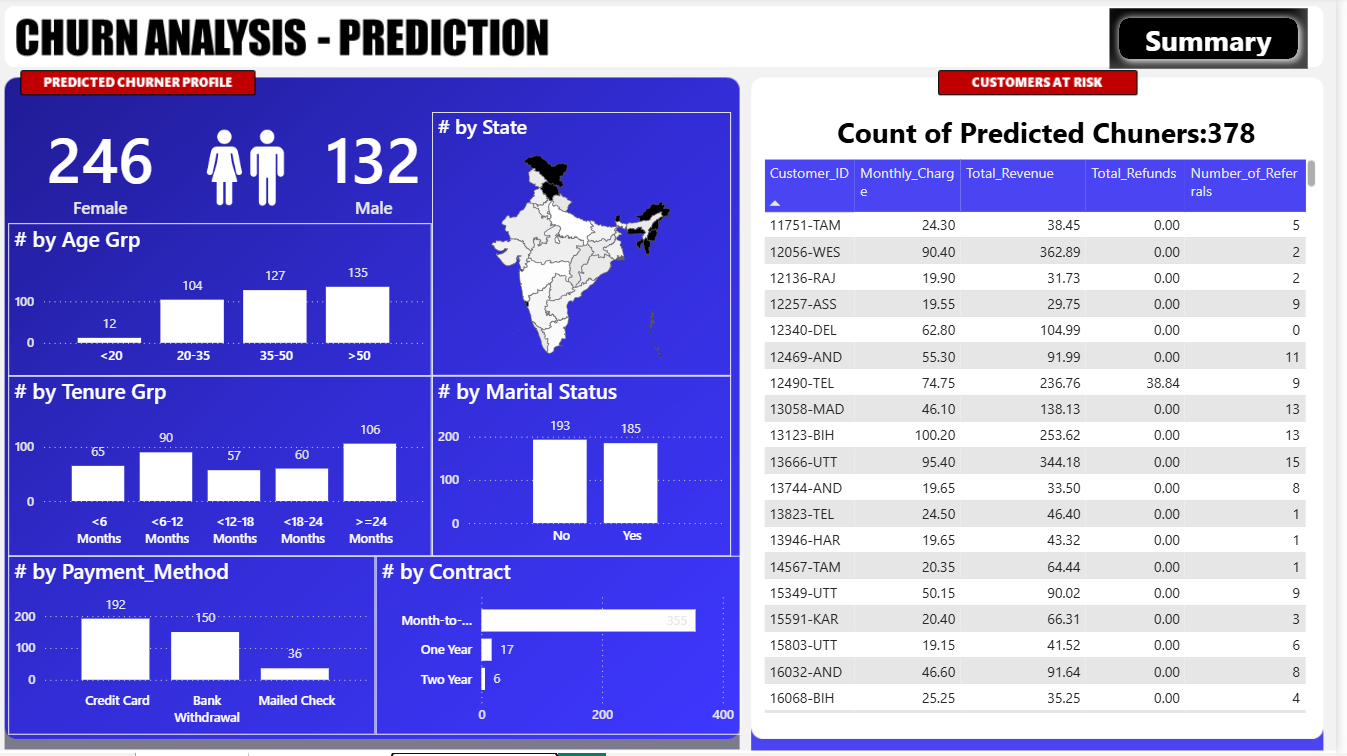

The dashboard page shown, as its layout file describes it:
{"tool":"powerbi","page":{"name":"Churn Prediction","canvas":[1280,720],"ordinal":2},"visuals":[{"type":"tableEx","fields":{"Values":["Predictions.Customer_ID","Predictions.Monthly_Charge","Predictions.Total_Revenue","Predictions.Total_Refunds","Predictions.Number_of_Referrals"]},"box":[730.2,149.8,536.2,536.2],"z":0},{"type":"card","fields":{"Values":["Measures table.Title Predicted Churner"]},"box":[776.2,108.9,456.2,40.9],"z":2000},{"type":"card","fields":{"Values":["Measures table.Count Predicted Churner"]},"box":[15.6,109.3,175.3,105.7],"z":3000},{"type":"card","fields":{"Values":["Measures table.Count Predicted Churner"]},"box":[276.2,109.3,175,105.7],"z":4000},{"type":"clusteredColumnChart","fields":{"Category":["Age Mapping.Age Grp"],"Y":["CountNonNull(Predictions.Customer_ID)"]},"box":[15.6,214.9,403.5,145.3],"z":5000},{"type":"clusteredColumnChart","fields":{"Y":["CountNonNull(Predictions.Customer_ID)"],"Category":["Predictions.Married"]},"box":[419.1,360.2,284.6,171.7],"z":6000},{"type":"clusteredColumnChart","fields":{"Y":["CountNonNull(Predictions.Customer_ID)"],"Category":["Tenure Mapping.Tenure Grp"]},"box":[15.6,360.2,403.5,171.7],"z":7000},{"type":"clusteredBarChart","fields":{"Category":["Predictions.Contract"],"Y":["CountNonNull(Predictions.Customer_ID)"]},"box":[365,531.9,348.2,170.5],"z":8000},{"type":"clusteredColumnChart","fields":{"Y":["CountNonNull(Predictions.Customer_ID)"],"Category":["Predictions.Payment_Method"]},"box":[15.6,531.9,349.4,170.5],"z":9001},{"type":"image","box":[190.9,109.3,102.1,104.5],"z":9002},{"type":"shapeMap","fields":{"Category":["Predictions.State"],"Value":["CountNonNull(Predictions.Customer_ID)"]},"box":[419.1,109.3,284.6,251],"z":9003},{"type":"shape","box":[1063.9,10.8,188.5,57.6],"z":9004}]}

Visuals, with their boxes in screenshot pixels (x1, y1, x2, y2), scaled from the page's 1280x720 canvas onto the 1347x756 screenshot:
tableEx - Predictions.Customer_ID x Predictions.Monthly_Charge: {"left": 768, "top": 157, "right": 1333, "bottom": 720}
card - Measures table.Title Predicted Churner: {"left": 817, "top": 114, "right": 1297, "bottom": 157}
card - Measures table.Count Predicted Churner: {"left": 16, "top": 115, "right": 201, "bottom": 226}
card - Measures table.Count Predicted Churner: {"left": 291, "top": 115, "right": 475, "bottom": 226}
clusteredColumnChart - Age Mapping.Age Grp x CountNonNull(Predictions.Customer_ID): {"left": 16, "top": 226, "right": 441, "bottom": 378}
clusteredColumnChart - CountNonNull(Predictions.Customer_ID) x Predictions.Married: {"left": 441, "top": 378, "right": 741, "bottom": 558}
clusteredColumnChart - CountNonNull(Predictions.Customer_ID) x Tenure Mapping.Tenure Grp: {"left": 16, "top": 378, "right": 441, "bottom": 558}
clusteredBarChart - Predictions.Contract x CountNonNull(Predictions.Customer_ID): {"left": 384, "top": 558, "right": 751, "bottom": 738}
clusteredColumnChart - CountNonNull(Predictions.Customer_ID) x Predictions.Payment_Method: {"left": 16, "top": 558, "right": 384, "bottom": 738}
image: {"left": 201, "top": 115, "right": 308, "bottom": 224}
shapeMap - Predictions.State x CountNonNull(Predictions.Customer_ID): {"left": 441, "top": 115, "right": 741, "bottom": 378}
shape: {"left": 1120, "top": 11, "right": 1318, "bottom": 72}
